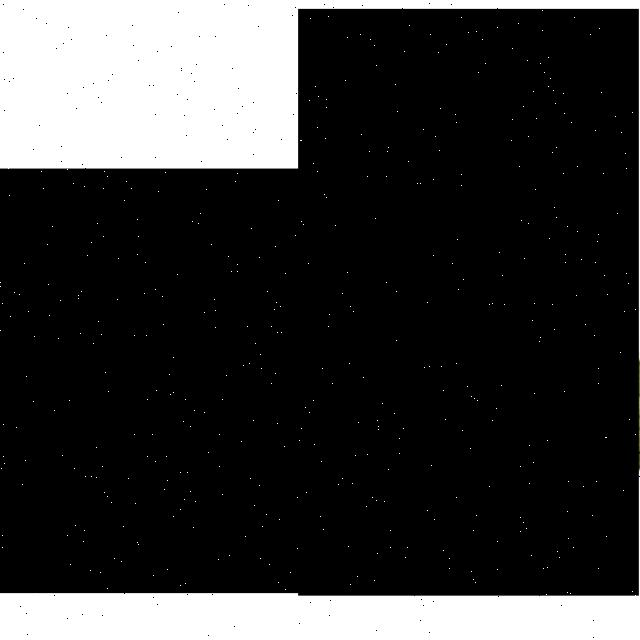Avocado: (298, 9, 640, 596), (0, 168, 462, 592)
